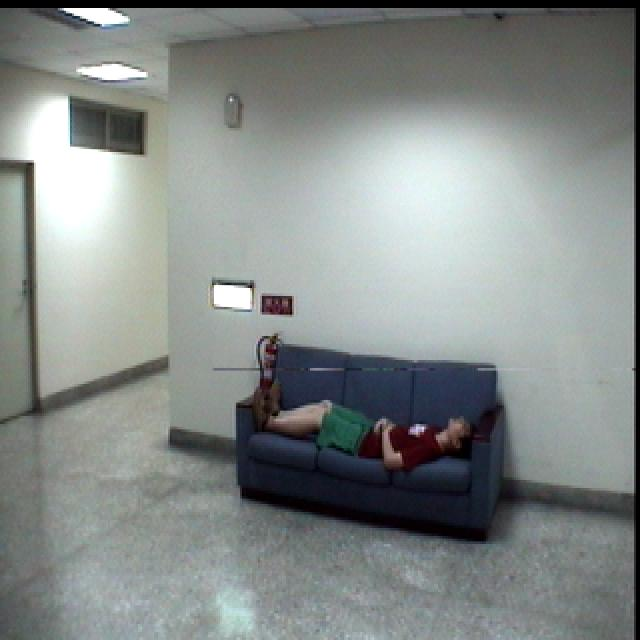lie: (244, 374, 482, 471)
